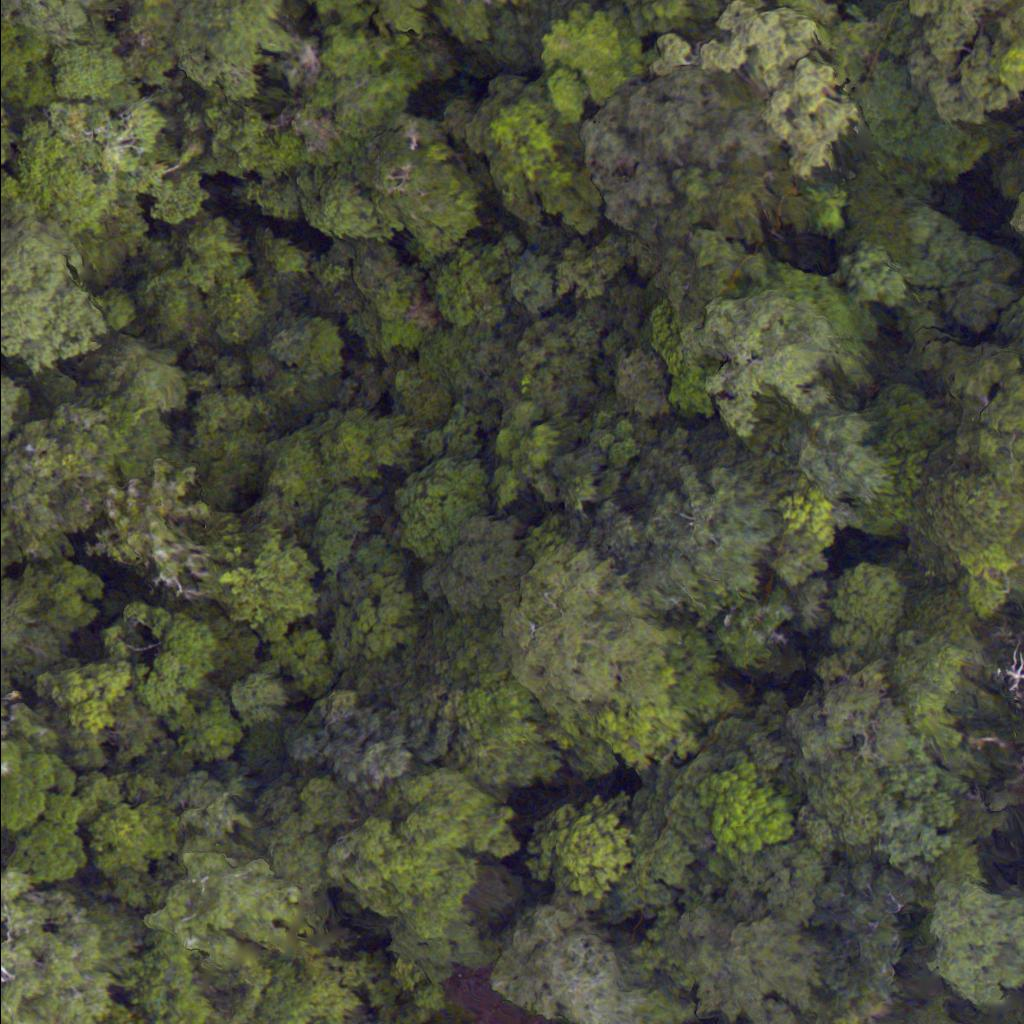crown: (327, 772, 516, 939), (580, 66, 764, 227), (501, 543, 666, 719), (696, 3, 859, 176), (678, 291, 839, 437), (0, 870, 144, 1023), (492, 906, 680, 1023), (465, 93, 601, 233), (666, 904, 822, 1023), (0, 404, 118, 556), (145, 853, 303, 965), (352, 115, 478, 254), (651, 465, 775, 605), (0, 216, 106, 375), (907, 0, 1023, 124), (917, 880, 1023, 1009), (539, 5, 645, 127), (18, 122, 115, 232), (529, 796, 631, 896), (696, 755, 794, 855), (50, 100, 164, 178), (798, 752, 885, 850), (957, 354, 1023, 483), (113, 955, 223, 1023), (8, 792, 83, 882), (94, 803, 175, 872), (0, 0, 105, 47), (53, 45, 127, 100), (0, 377, 19, 448)
